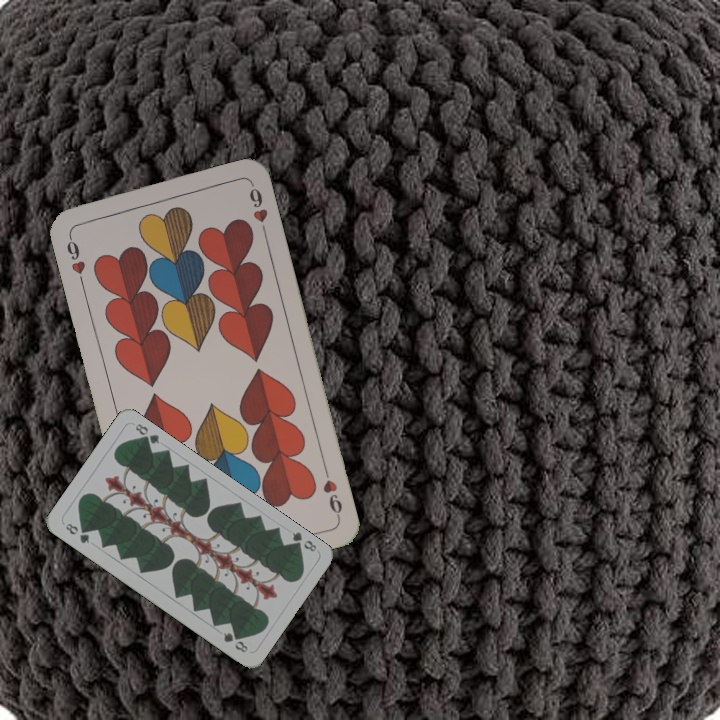G8: (287, 527, 319, 554), (61, 519, 92, 546)
H9: (319, 463, 345, 521), (62, 229, 88, 287)
